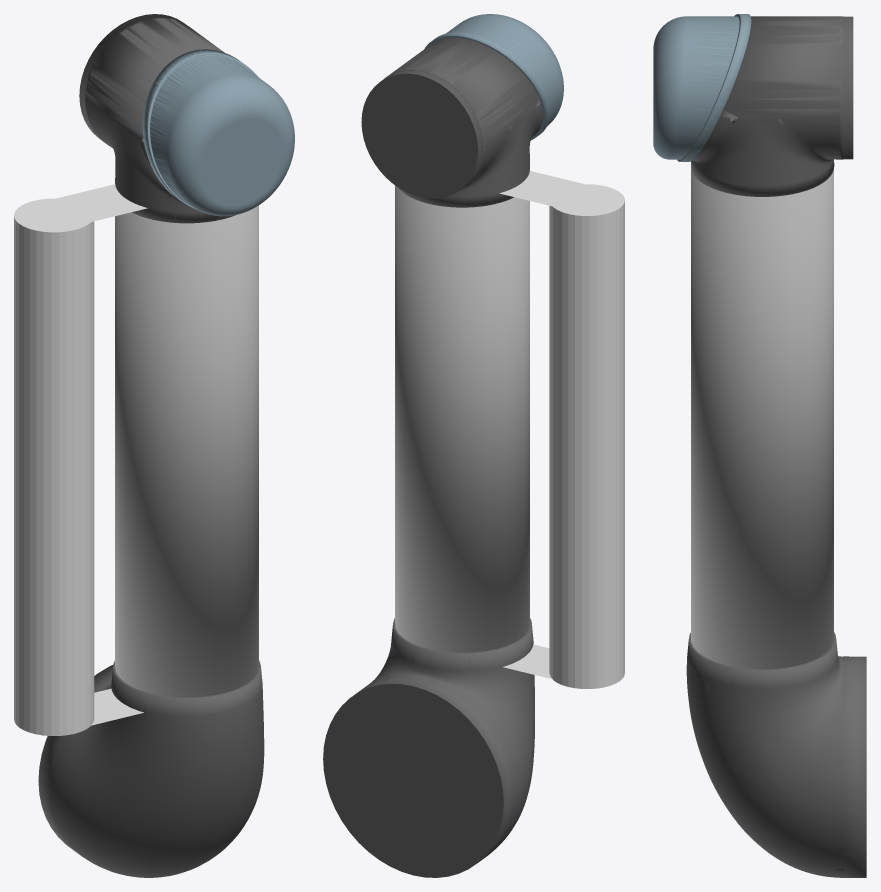
File: forearm_snake.dae
The picture shows the model from 3 angles, left to right: view 1: azimuth 30°, elevation 25°; view 2: azimuth 150°, elevation 25°; view 3: azimuth 270°, elevation 25°; orthographic projection. The views are drawn at different scales.
Visible parts, largest first — view 1: Actor1, Cylinder, Actor3, Actor0_001, Actor2, Plane, Plane_001; view 2: Actor1, Actor3, Cylinder, Actor2, Actor0_001, Plane, Plane_001; view 3: Actor1, Actor3, Actor2, Actor0_001.
Boxes of the visible parts, bbox=[...] form: Actor1: bbox=[115, 205, 258, 697]; Cylinder: bbox=[14, 198, 94, 735]; Actor3: bbox=[38, 660, 264, 877]; Actor0_001: bbox=[142, 49, 294, 216]; Actor2: bbox=[79, 14, 235, 223]; Plane: bbox=[43, 184, 147, 225]; Plane_001: bbox=[91, 688, 143, 725]; Actor1: bbox=[395, 185, 529, 652]; Actor3: bbox=[323, 618, 534, 877]; Cylinder: bbox=[549, 184, 624, 688]; Actor2: bbox=[361, 37, 543, 207]; Actor0_001: bbox=[424, 14, 563, 140]; Plane: bbox=[499, 171, 597, 209]; Plane_001: bbox=[503, 644, 552, 679]; Actor1: bbox=[691, 169, 833, 669]; Actor3: bbox=[686, 632, 866, 877]; Actor2: bbox=[691, 16, 853, 196]; Actor0_001: bbox=[653, 14, 751, 161].
Size of the model in its own units: 0.159 by 0.1117 by 0.4892.
